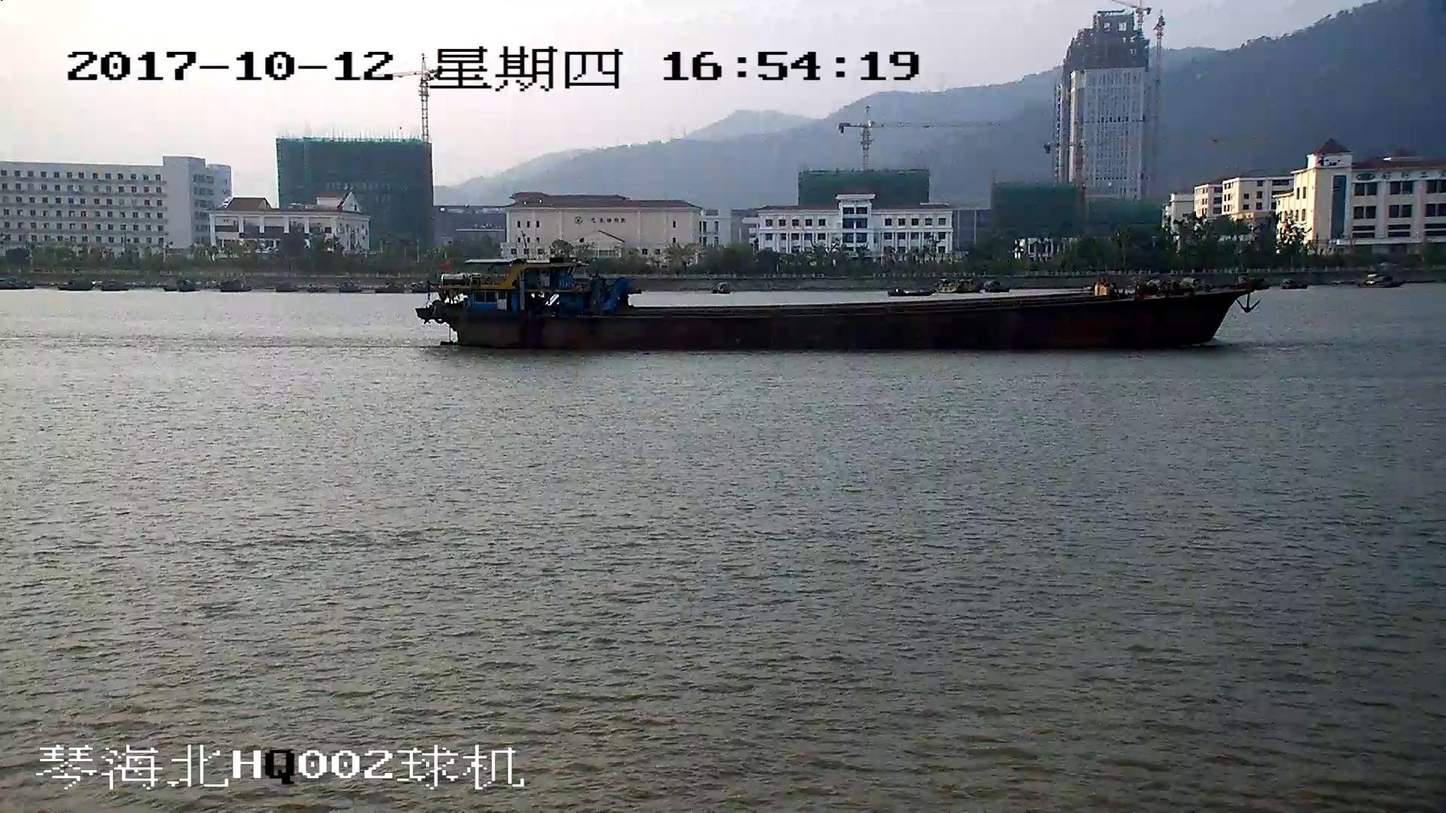bulk cargo carrier: (415, 254, 1255, 349)
